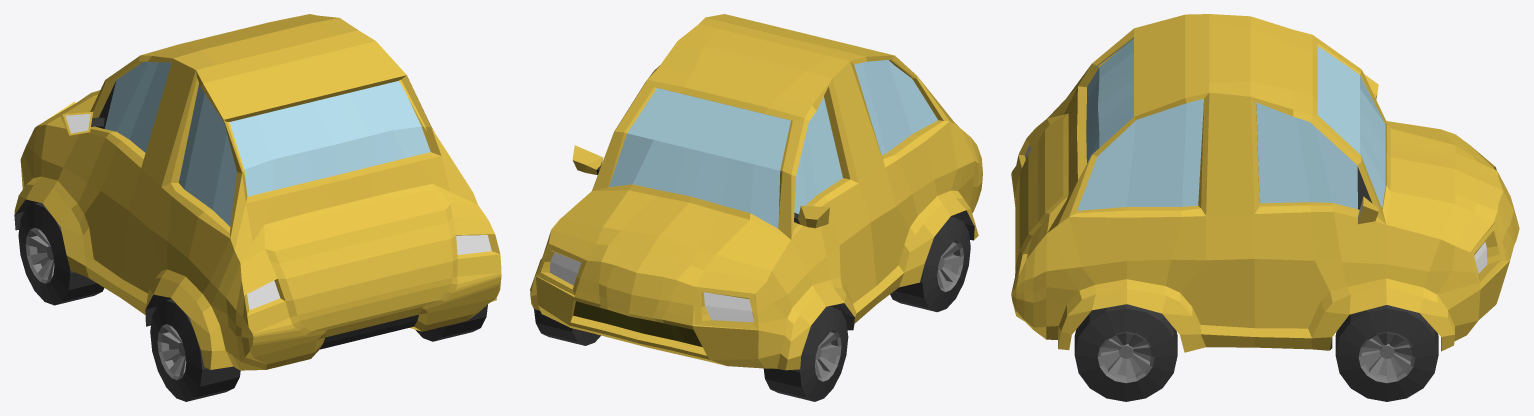
File: beetle.fbx
The picture shows the model from 3 angles, left to right: view 1: azimuth 30°, elevation 25°; view 2: azimuth 150°, elevation 25°; view 3: azimuth 270°, elevation 25°; orthographic projection. The views are drawn at different scales.
Visible parts, largest first — view 1: car_body, weels_back, weels_front; view 2: car_body, weels_front, weels_back; view 3: car_body, weels_back, weels_front.
Boxes of the visible parts, left/top/right/bottom form: car_body: left=14, top=14, right=501, bottom=370; weels_back: left=150, top=299, right=487, bottom=401; weels_front: left=18, top=202, right=104, bottom=305; car_body: left=530, top=14, right=982, bottom=370; weels_front: left=534, top=306, right=848, bottom=401; weels_back: left=890, top=216, right=970, bottom=312; car_body: left=1011, top=14, right=1519, bottom=352; weels_back: left=1074, top=304, right=1177, bottom=401; weels_front: left=1335, top=305, right=1438, bottom=401.
Size of the model in its own units: 194 by 176 by 290.
